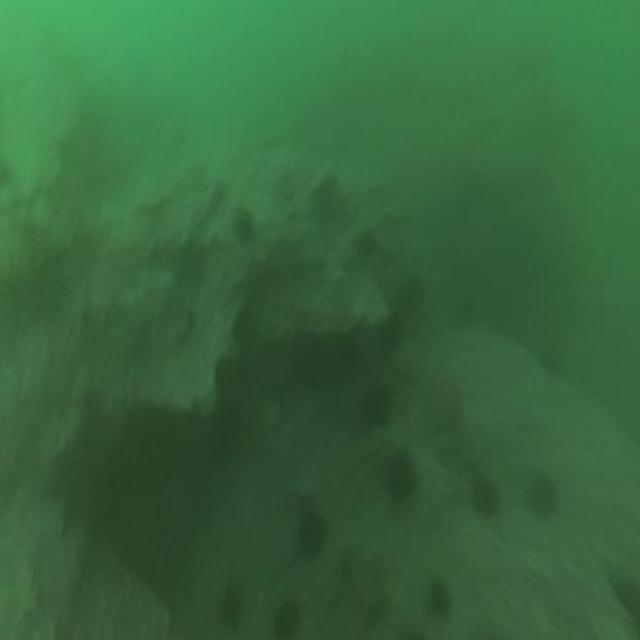echinus: (293, 332, 329, 398), (524, 460, 561, 524), (384, 442, 419, 502), (297, 507, 332, 564), (468, 469, 502, 526), (362, 379, 394, 432), (425, 577, 454, 630), (268, 596, 300, 640), (219, 584, 241, 640), (230, 202, 255, 246), (402, 269, 427, 311)
starfish: (333, 553, 391, 635)
